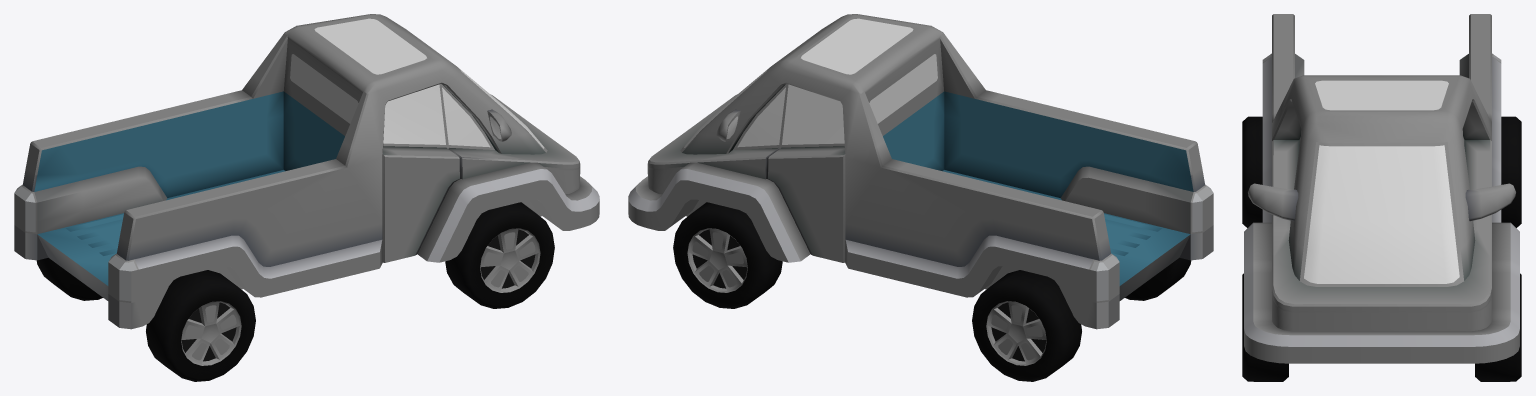
Rendered from Order_Board_Truck_Electric.fbx.
3 renders of one model, left to right at view 1: azimuth 30°, elevation 25°; view 2: azimuth 150°, elevation 25°; view 3: azimuth 270°, elevation 25°, orthographic. The views are drawn at different scales.
Parts seen in each view (by area): view 1: Order_Board_Truck_Electric; view 2: Order_Board_Truck_Electric; view 3: Order_Board_Truck_Electric.
Part boxes in pixels (box(x1,y1,x2,y2)): Order_Board_Truck_Electric: box(14, 14, 599, 381); Order_Board_Truck_Electric: box(628, 14, 1213, 381); Order_Board_Truck_Electric: box(1242, 14, 1521, 381).
Bounding box in the file's own units: 5.81 × 2.69 × 2.78.
